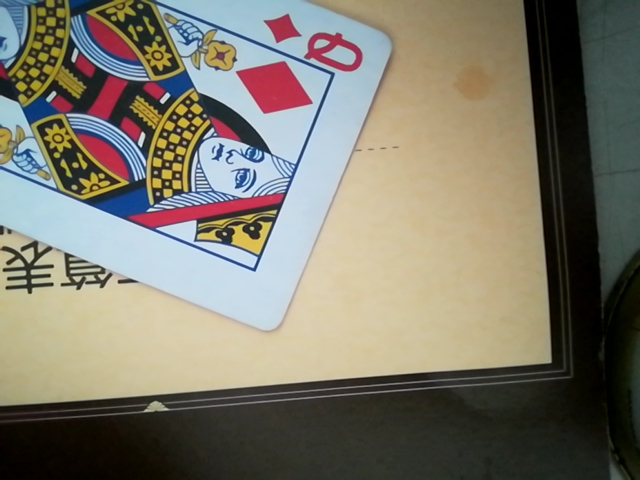fk q: (0, 0, 400, 333)
